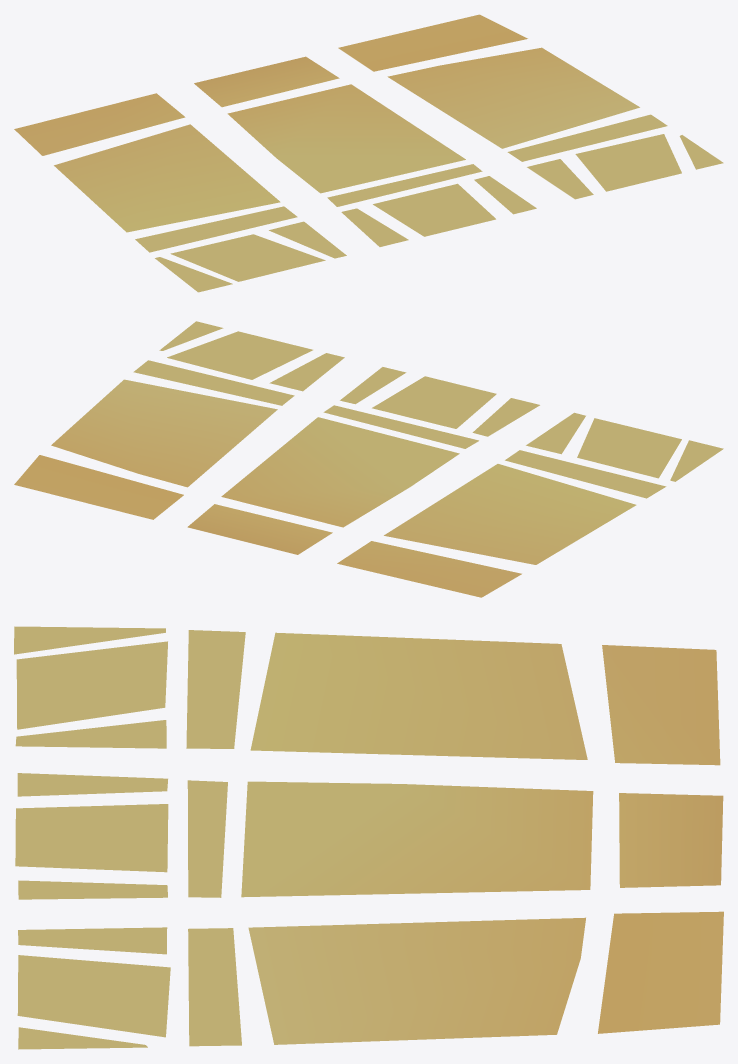
File: LighthoueLitUpPanels_fbx.fbx
3 views of the same model, one above another, from view 1: azimuth 30°, elevation 25°; view 2: azimuth 150°, elevation 25°; view 3: azimuth 270°, elevation 25° (orthographic). The views are drawn at different scales.
Visible parts, largest first — view 1: LighthoueLitUpPanels; view 2: LighthoueLitUpPanels; view 3: LighthoueLitUpPanels.
Part boxes in pixels (x1,y1,x2,y2): LighthoueLitUpPanels: (14,14,723,292); LighthoueLitUpPanels: (14,321,723,597); LighthoueLitUpPanels: (14,626,723,1049).
Bounding box in the file's own units: 204 × 0.00077 × 145.
